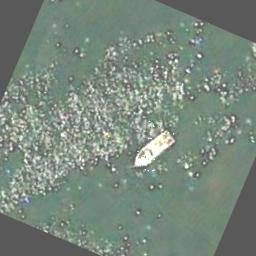boat: (129, 120, 178, 178)
